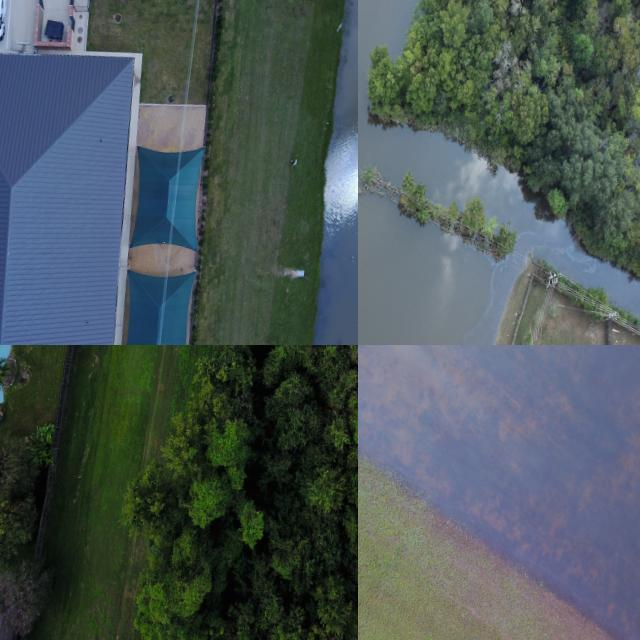fire: (358, 0, 640, 345), (358, 345, 640, 640)
